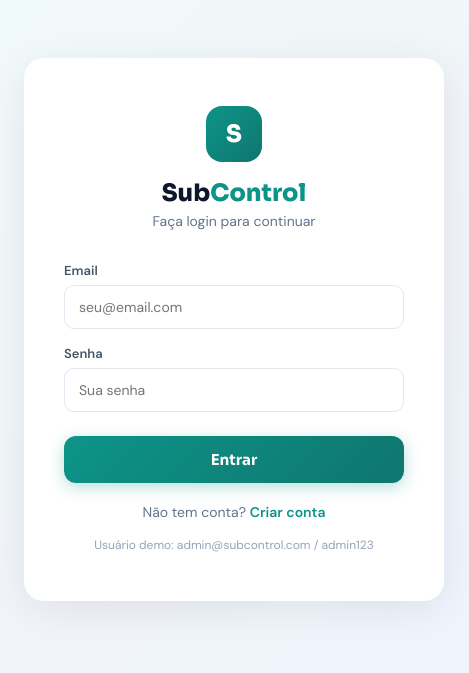
Test case: Login › toggles to register form
Click the button "Criar conta" at (288, 512), box [250,503,326,521]
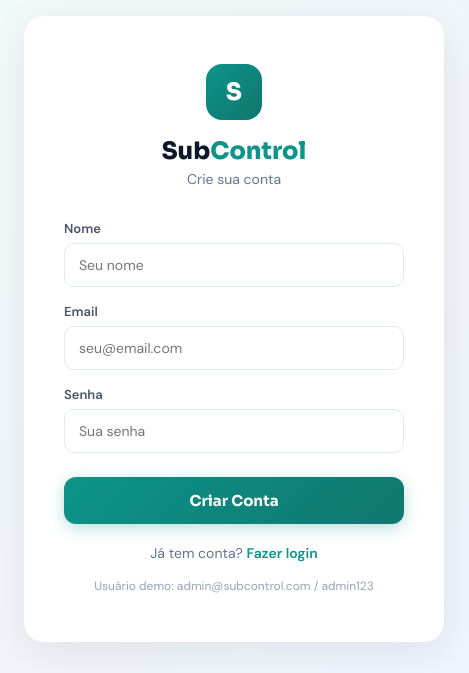
Now the text "Crie sua conta" is shown, box [187,170,281,188]
